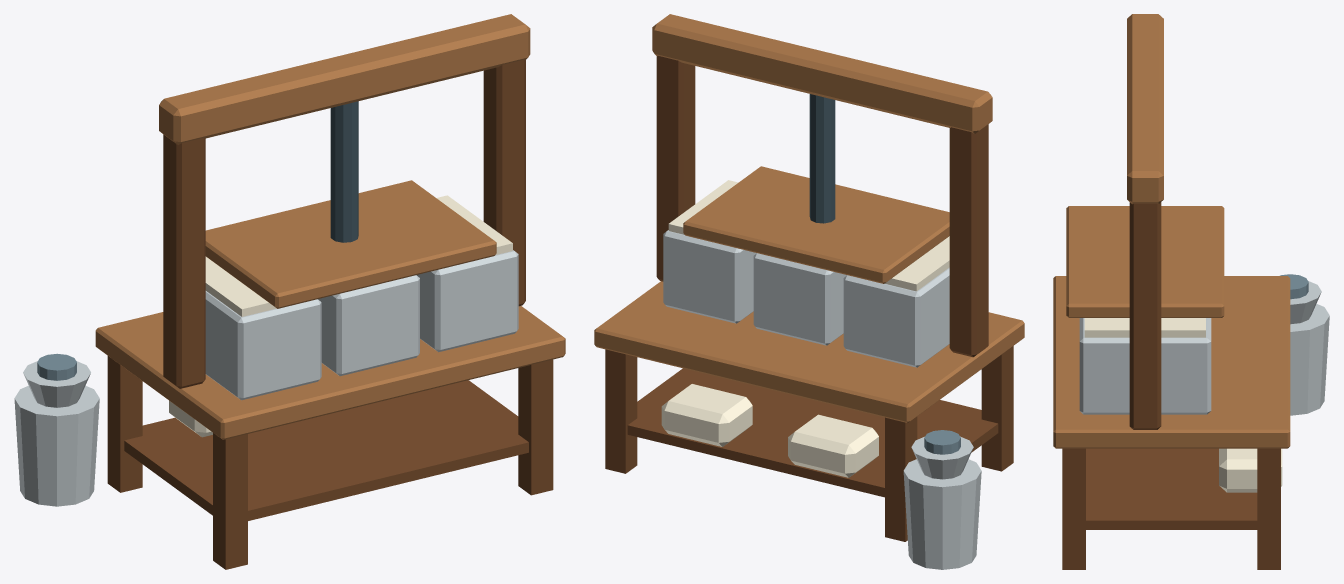
File: Makine_Peynir_M.fbx
3 views of the same model, side by side, from view 1: azimuth 30°, elevation 25°; view 2: azimuth 150°, elevation 25°; view 3: azimuth 270°, elevation 25° (orthographic). The views are drawn at different scales.
Visible parts, largest first — view 1: Makine_Peynir; view 2: Makine_Peynir; view 3: Makine_Peynir.
Boxes of the visible parts, x1,y1,x2,y2 form: Makine_Peynir: (14, 14, 565, 569); Makine_Peynir: (594, 14, 1024, 569); Makine_Peynir: (1053, 14, 1329, 569).
Bounding box in the file's own units: 172 × 169 × 105.
